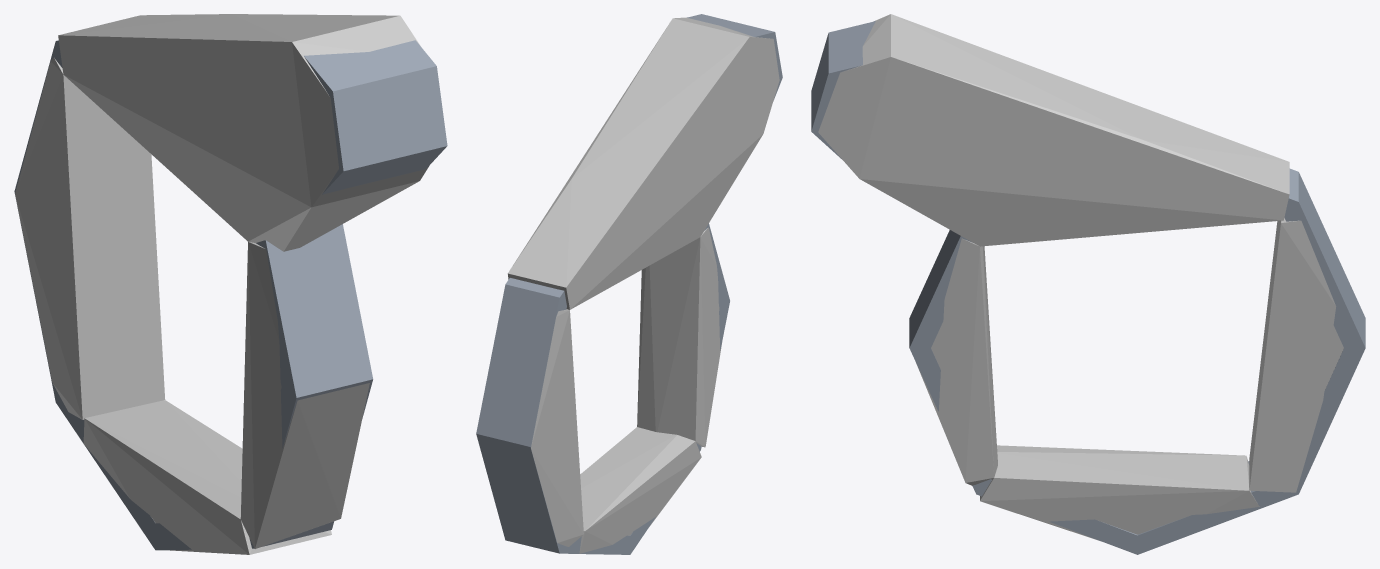
Rendered from SM_Prop_Viewing_Scope_01_Lens_02.fbx.
3 views of the same model, side by side, from view 1: azimuth 30°, elevation 25°; view 2: azimuth 150°, elevation 25°; view 3: azimuth 270°, elevation 25° (orthographic). The views are drawn at different scales.
Parts seen in each view (by area): view 1: SM_Prop_Viewing_Scope_01_Lens_02_ConvexHulls, SM_Prop_Viewing_Scope_01_Lens_02; view 2: SM_Prop_Viewing_Scope_01_Lens_02_ConvexHulls, SM_Prop_Viewing_Scope_01_Lens_02; view 3: SM_Prop_Viewing_Scope_01_Lens_02_ConvexHulls, SM_Prop_Viewing_Scope_01_Lens_02.
Part boxes in pixels (x1,y1,x2,y2): SM_Prop_Viewing_Scope_01_Lens_02_ConvexHulls: (15, 14, 428, 554); SM_Prop_Viewing_Scope_01_Lens_02: (14, 40, 447, 550); SM_Prop_Viewing_Scope_01_Lens_02_ConvexHulls: (507, 17, 779, 553); SM_Prop_Viewing_Scope_01_Lens_02: (476, 14, 782, 554); SM_Prop_Viewing_Scope_01_Lens_02_ConvexHulls: (818, 14, 1343, 540); SM_Prop_Viewing_Scope_01_Lens_02: (811, 21, 1365, 554).
Bounding box in the file's own units: 6.33 × 34.57 × 34.71.
Materials: 2 (1 with a texture image).
